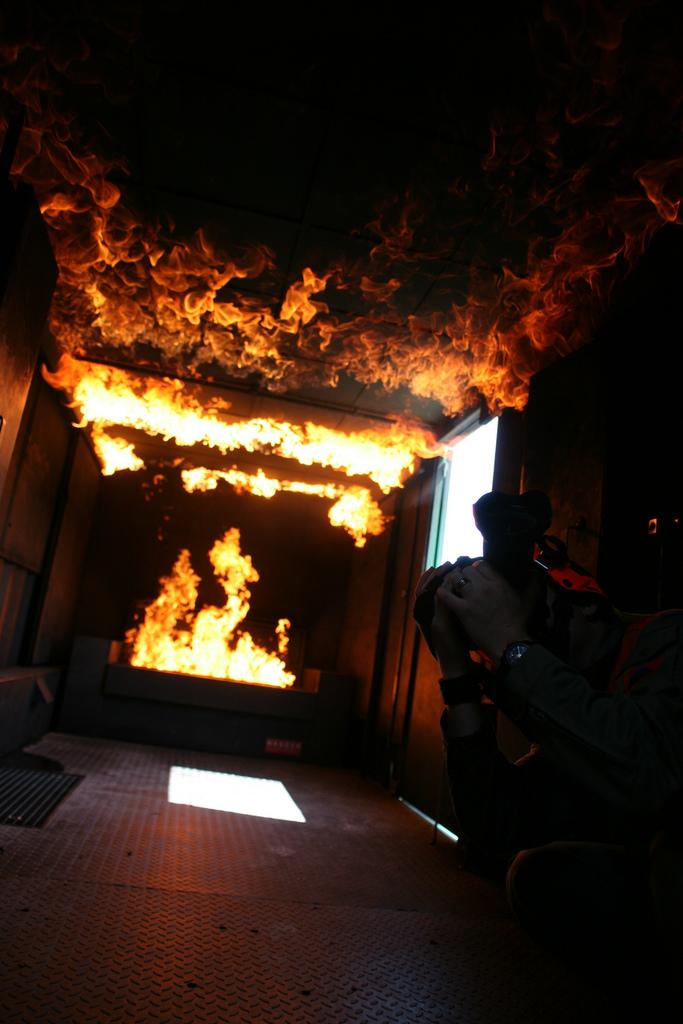fire: (82, 282, 427, 488), (138, 560, 260, 670)
